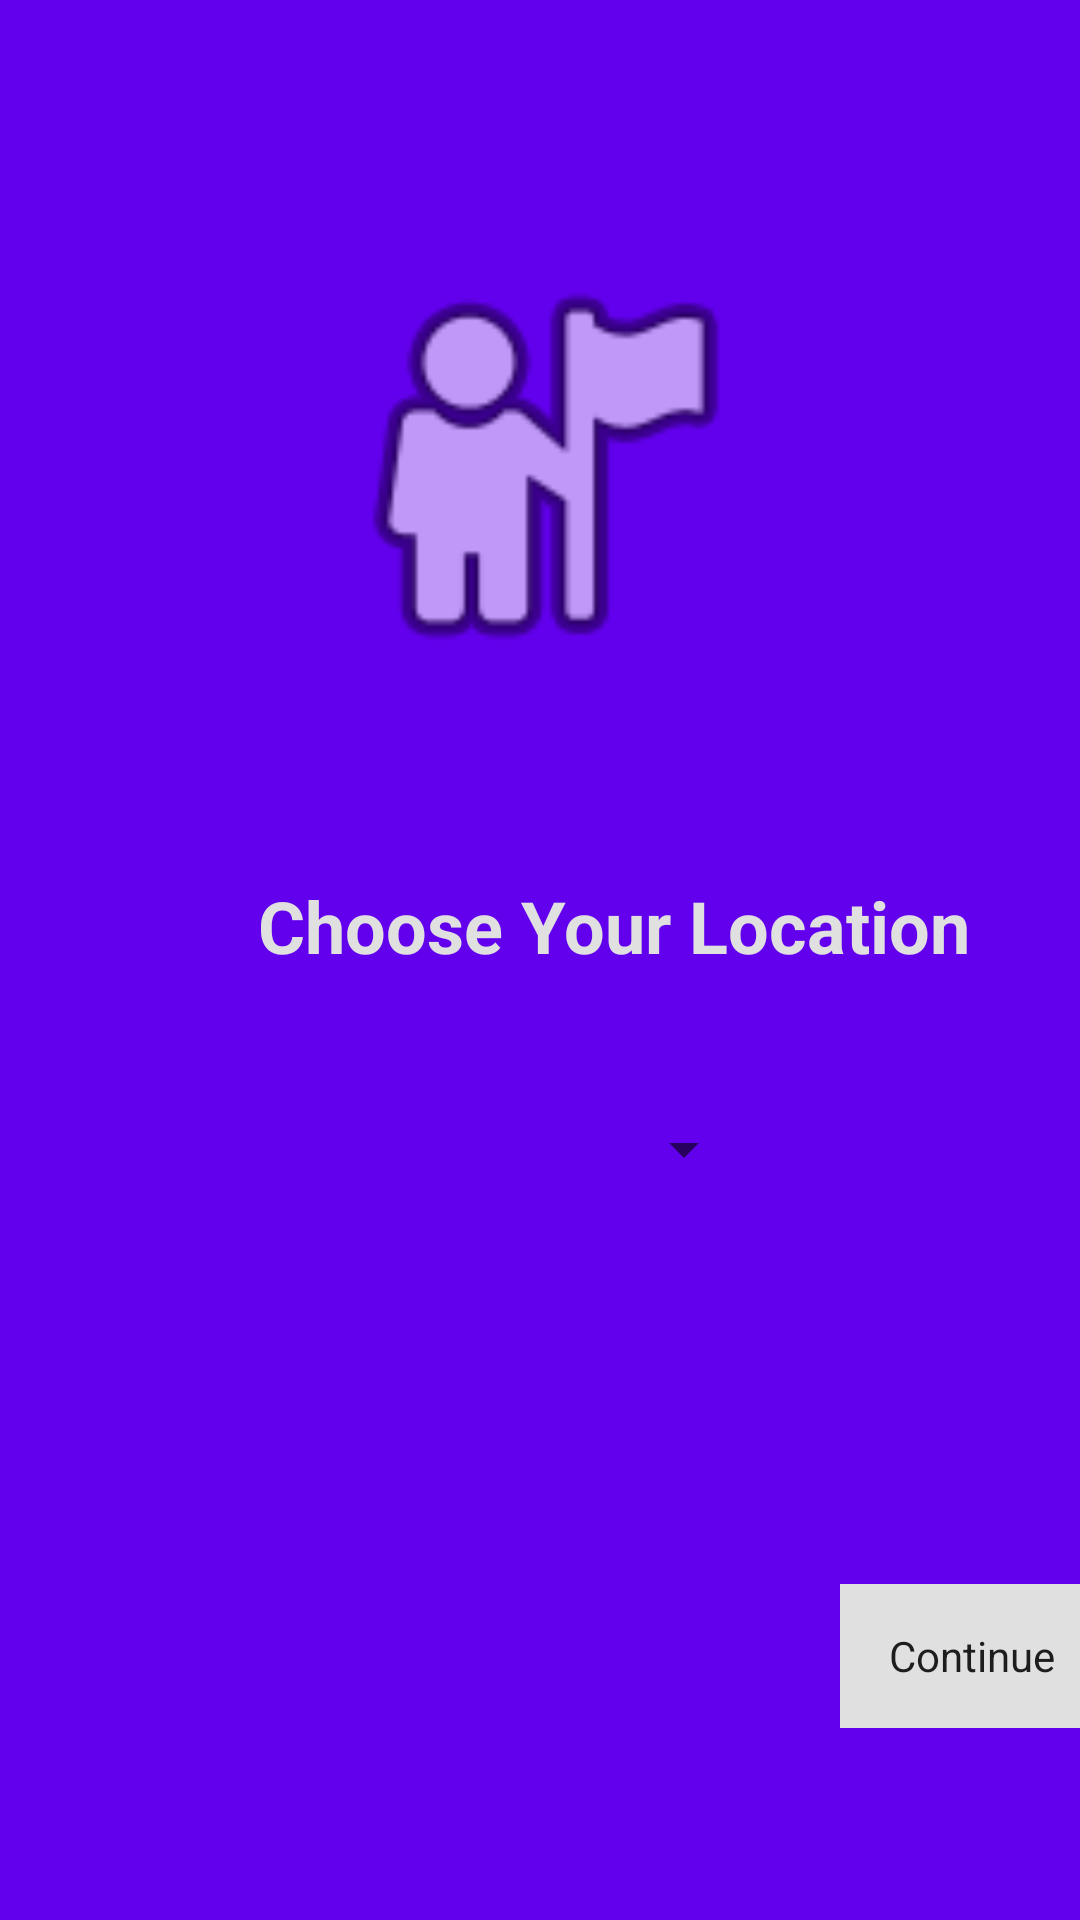

Icon click points for this 1080×1920 phone screenshot, format (x=x, y=y):
myplaces: (x=546, y=466)
